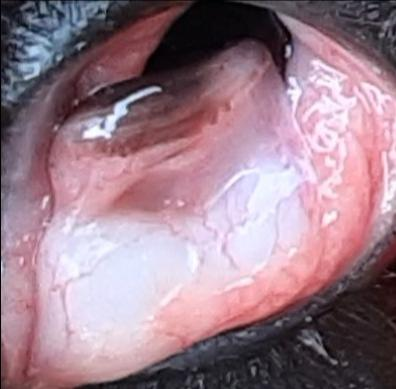eye_membrane: (0, 0, 396, 387)
